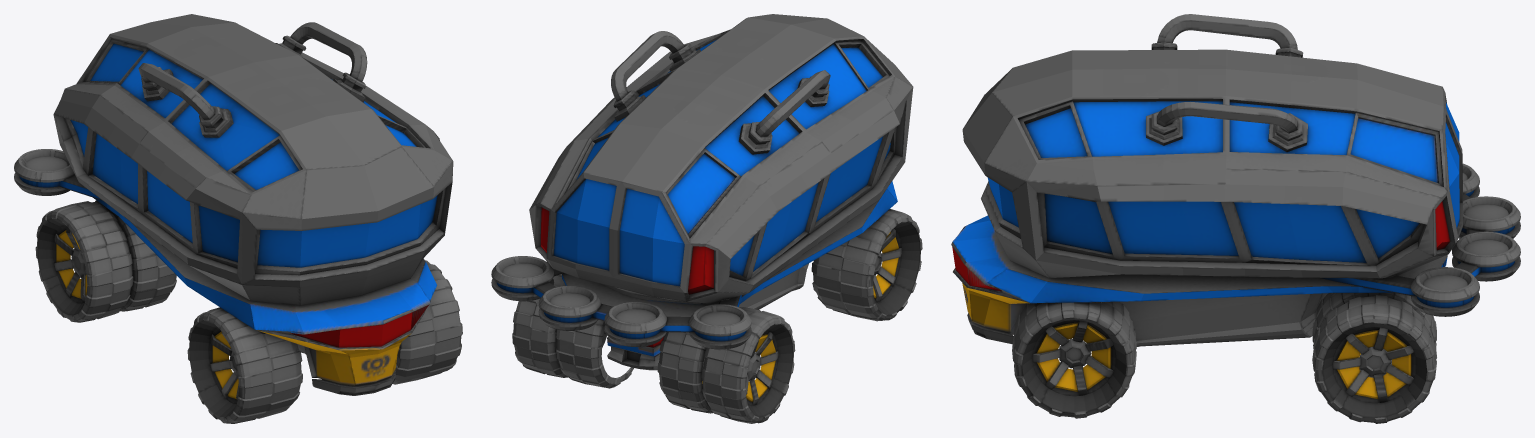
File: ALGIBE.gltf
3 renders of one model, left to right at view 1: azimuth 30°, elevation 25°; view 2: azimuth 150°, elevation 25°; view 3: azimuth 270°, elevation 25°, orthographic. The views are drawn at different scales.
Visible parts, largest first — view 1: ALJIBE_EYE3_ON.1; view 2: ALJIBE_EYE3_ON.1; view 3: ALJIBE_EYE3_ON.1.
Boxes of the visible parts, x1,y1,x2,y2 form: ALJIBE_EYE3_ON.1: (14, 14, 462, 423); ALJIBE_EYE3_ON.1: (491, 14, 922, 423); ALJIBE_EYE3_ON.1: (951, 14, 1520, 423).
Bounding box in the file's own units: 503 × 533 × 896.
Materials: 1 (1 with a texture image).
